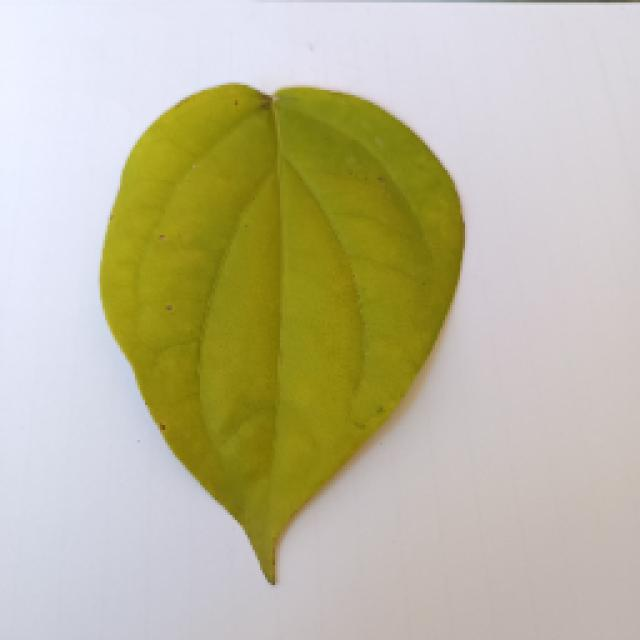slow-decline: (80, 80, 490, 582)
